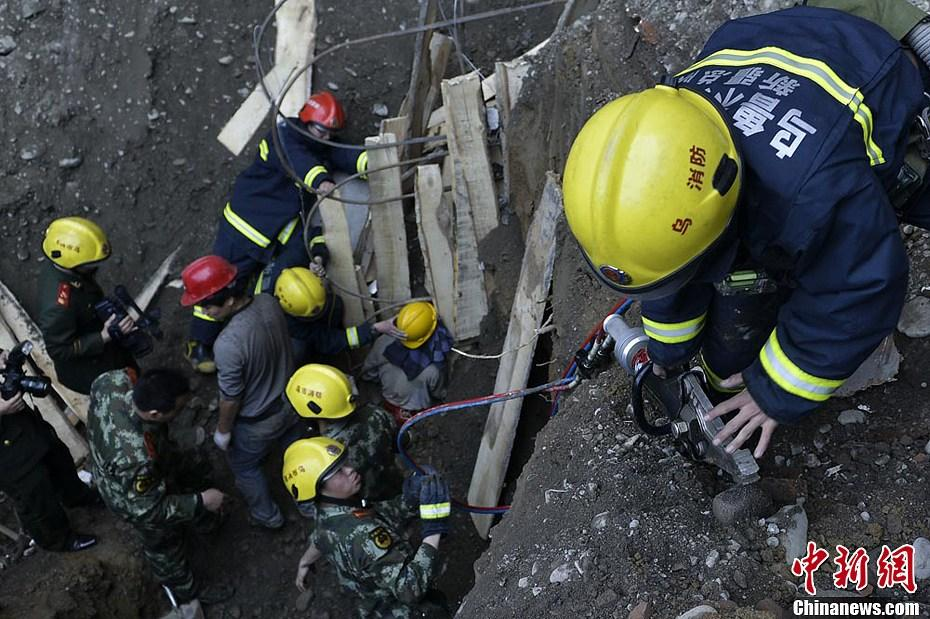helmet: (558, 79, 740, 307), (281, 431, 345, 501), (39, 216, 113, 275), (286, 365, 357, 418), (272, 264, 331, 321), (179, 254, 237, 310), (395, 300, 439, 353), (299, 89, 346, 135)
